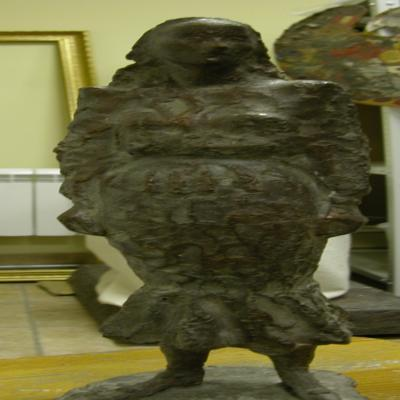sculpture: (53, 17, 394, 400)
